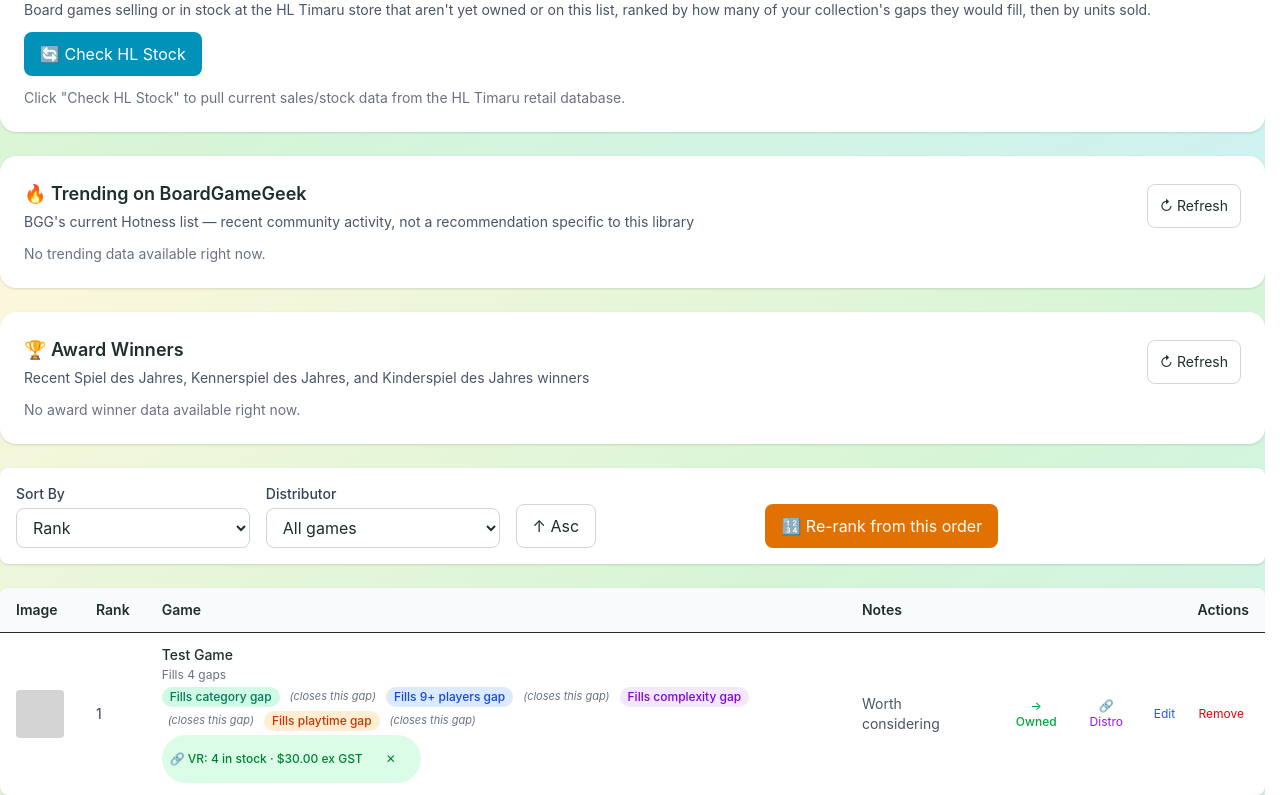
Test: BuyListTab › Manual distributor links › unlinks a manual link from its badge
(page scrolled)
Click the button named "Unlink VR V9" at (391, 759), box x1=369 y1=737 x2=413 y2=781
(page scrolled)
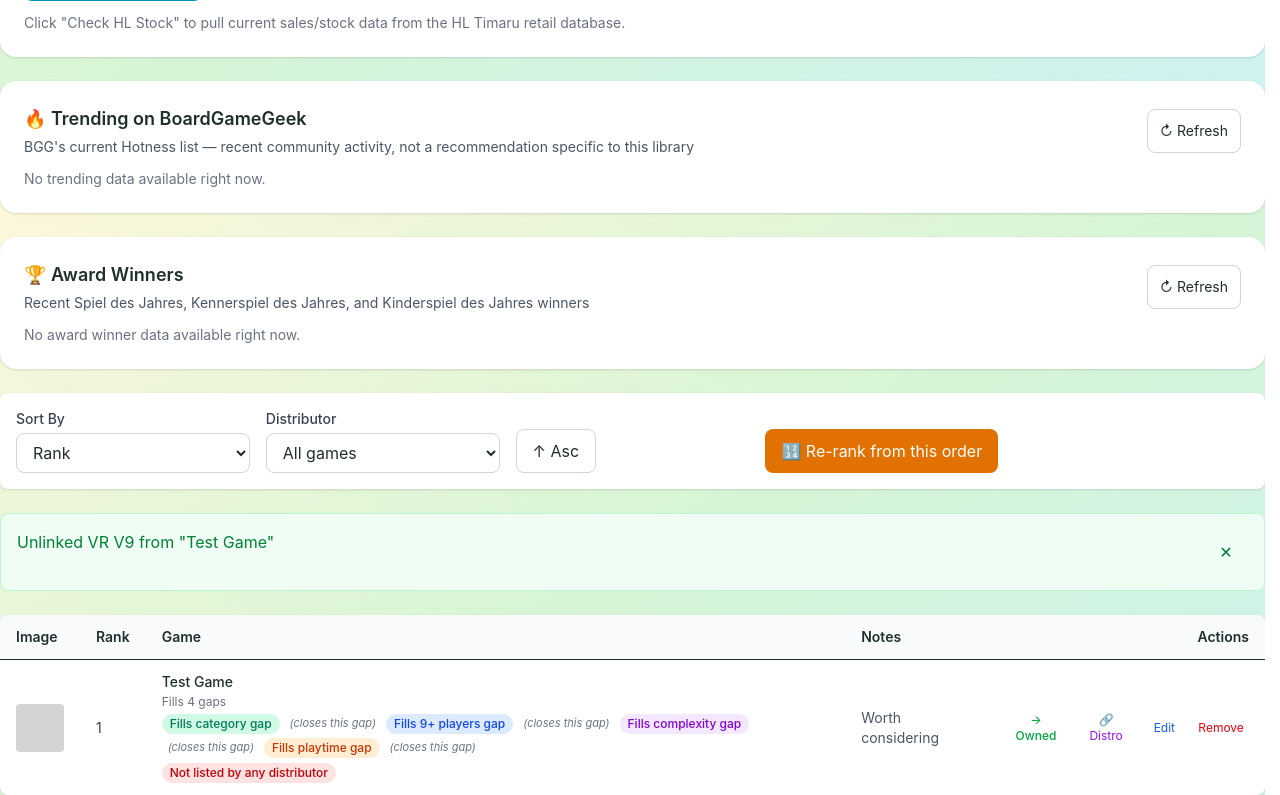
expect the text "Not listed by any distributor" is shown: met, box x1=162 y1=763 x2=336 y2=783
